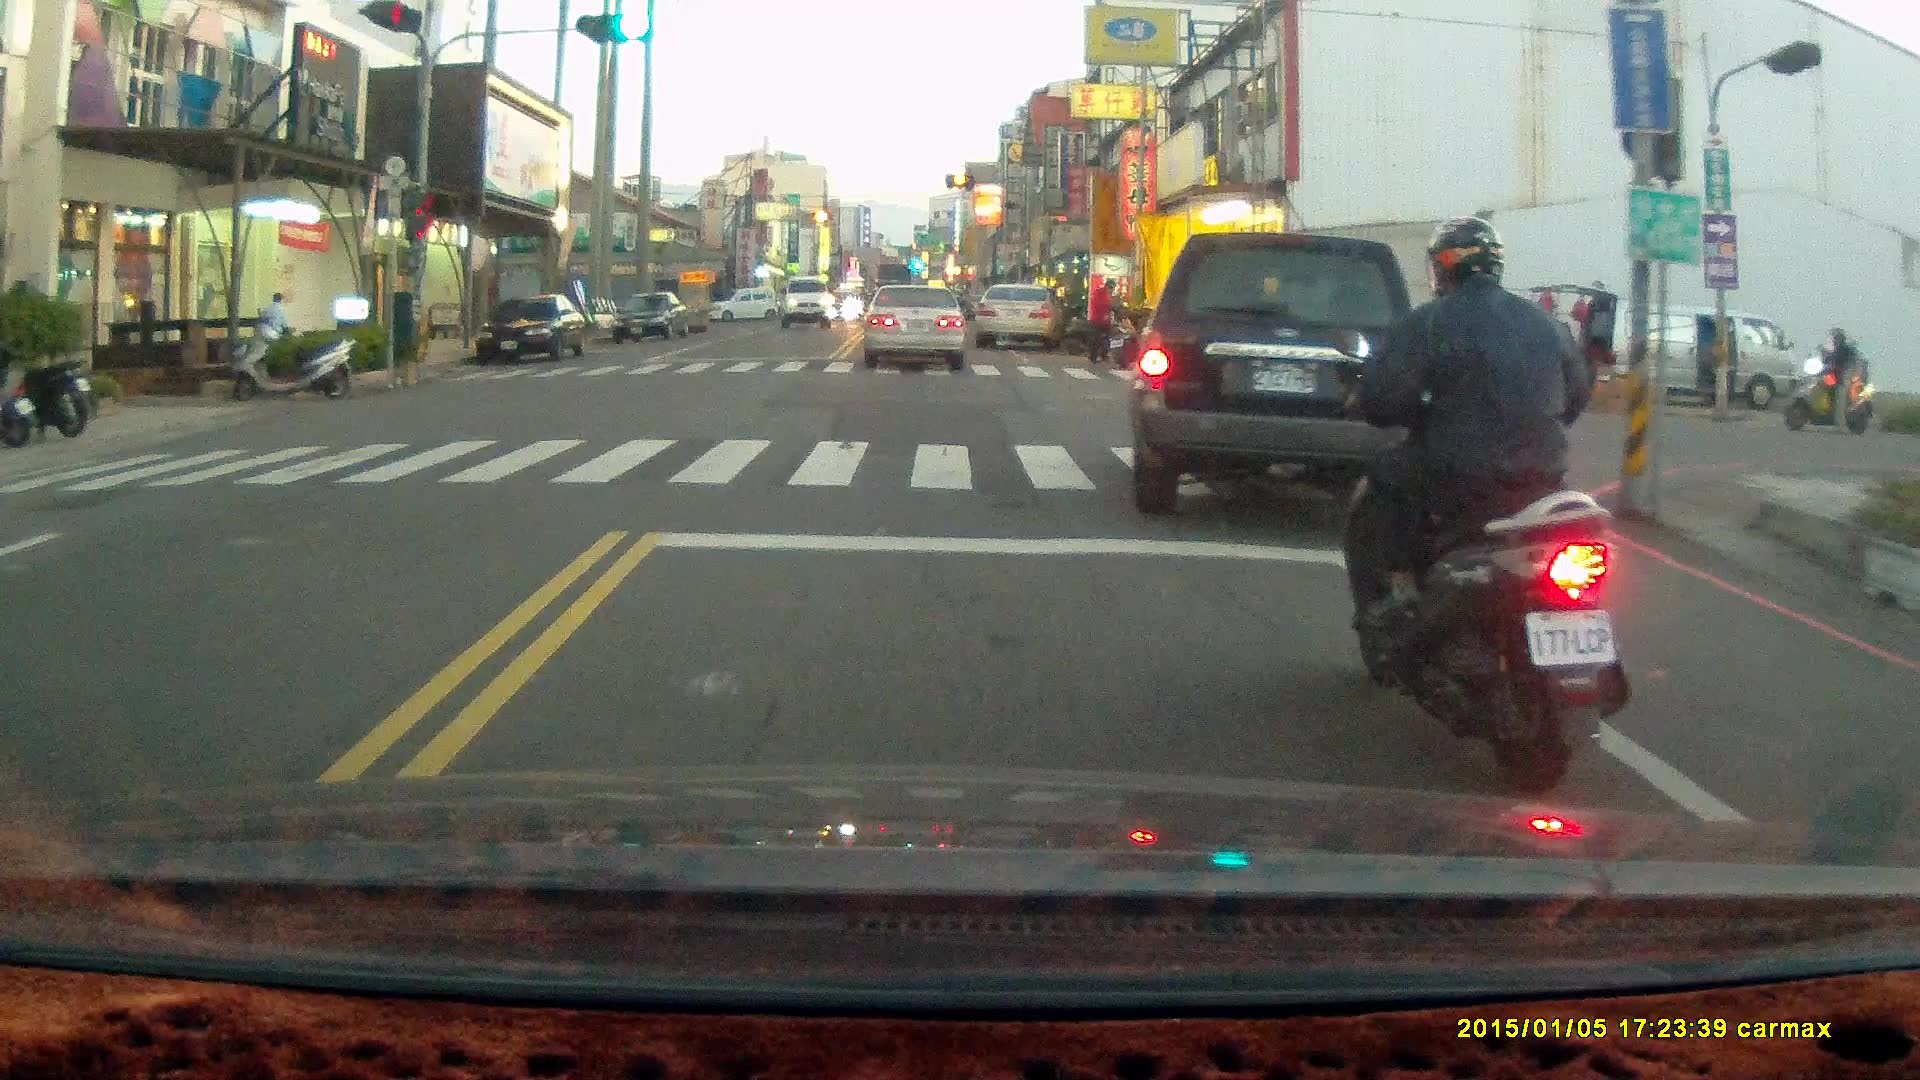pedestrian: (1084, 277, 1116, 370), (261, 292, 296, 357)
rider: (1324, 214, 1629, 798), (1781, 325, 1871, 437)
vehicle: (1121, 231, 1449, 524), (1581, 302, 1812, 417), (861, 285, 972, 370), (481, 295, 587, 370), (973, 281, 1061, 358), (613, 293, 696, 347), (780, 276, 835, 334)
